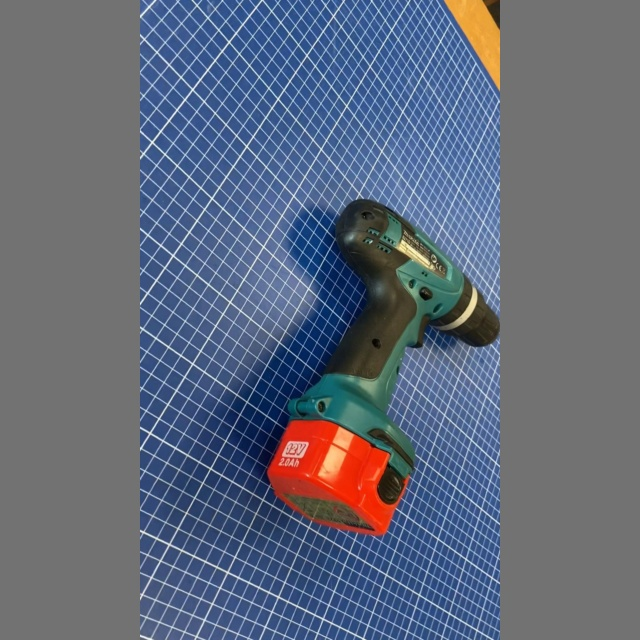drill: (261, 189, 500, 544)
